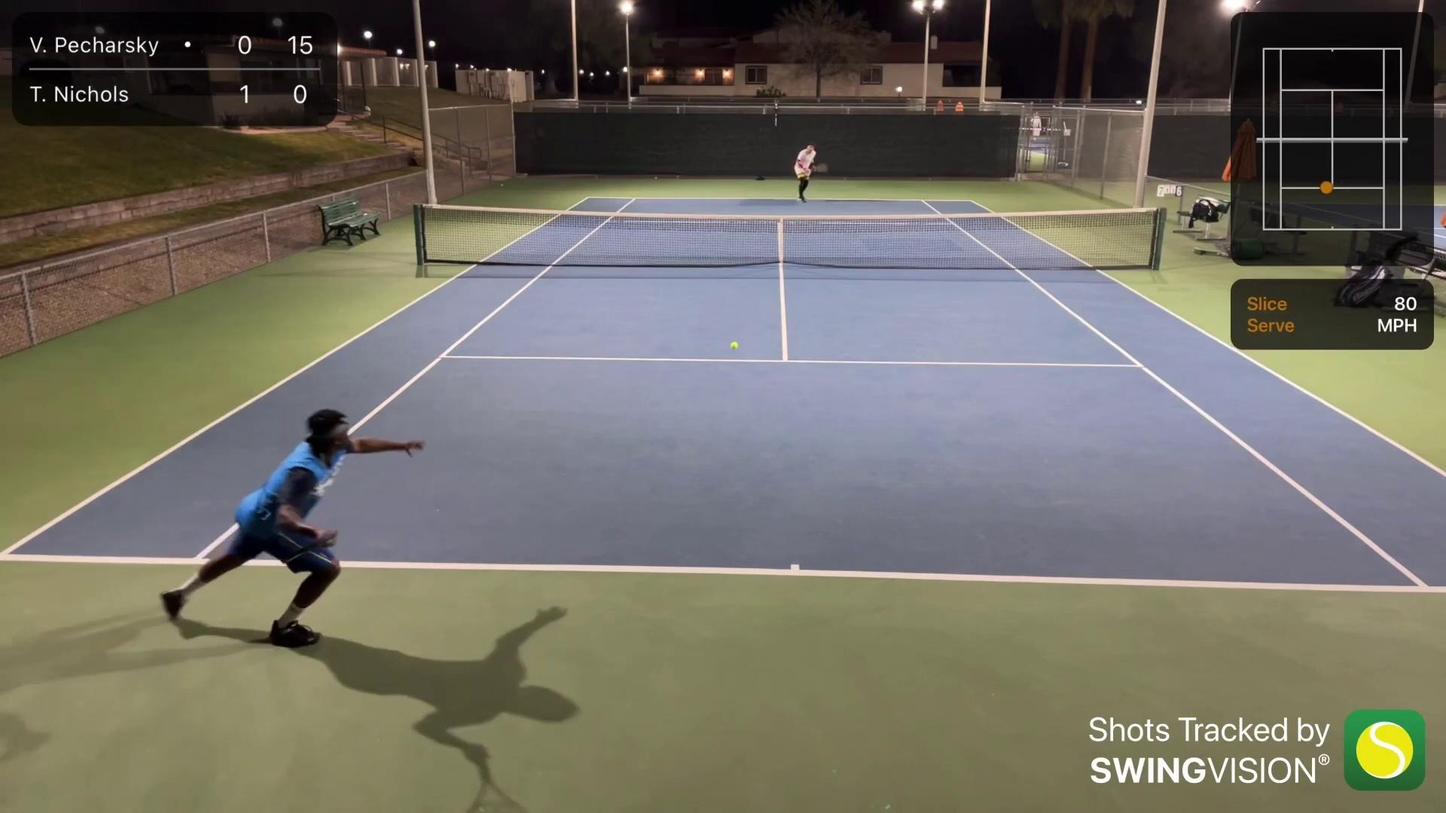ball: (727, 338, 743, 354)
